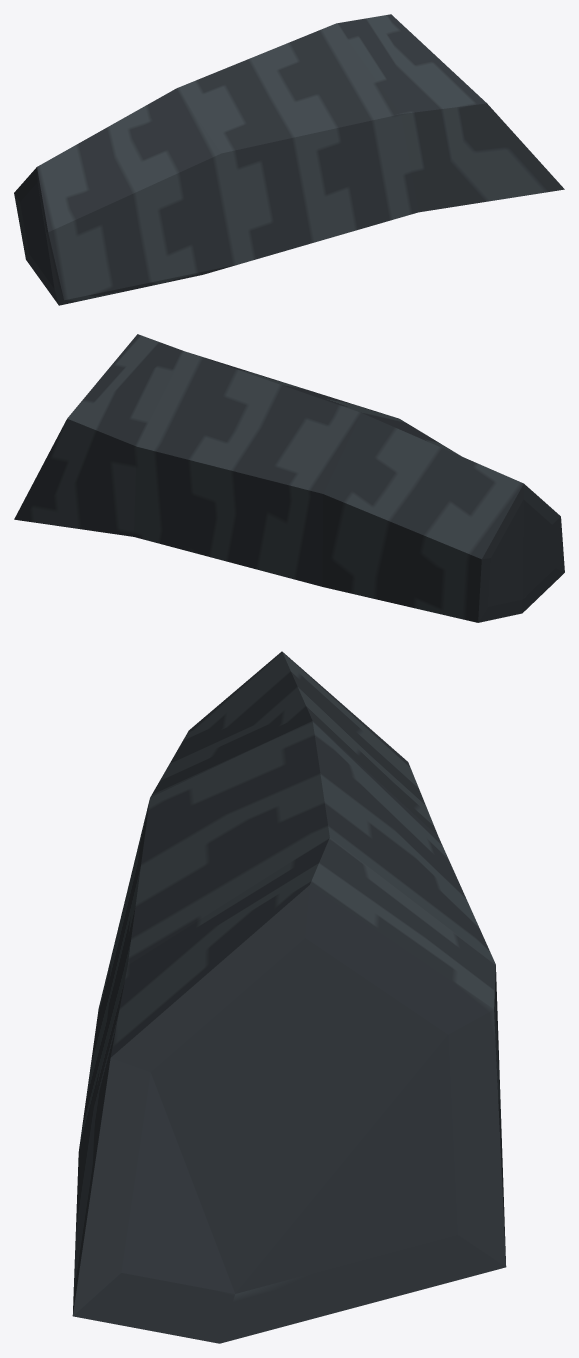
File: Chr_ArmUpperRight_Female_19_Static.fbx
3 views of the same model, one above another, from view 1: azimuth 30°, elevation 25°; view 2: azimuth 150°, elevation 25°; view 3: azimuth 270°, elevation 25° (orthographic). The views are drawn at different scales.
Parts seen in each view (by area): view 1: Chr_ArmUpperRight_Female_19_Static; view 2: Chr_ArmUpperRight_Female_19_Static; view 3: Chr_ArmUpperRight_Female_19_Static.
Part boxes in pixels (x1,y1,x2,y2): Chr_ArmUpperRight_Female_19_Static: (14, 14, 564, 305); Chr_ArmUpperRight_Female_19_Static: (14, 334, 564, 622); Chr_ArmUpperRight_Female_19_Static: (72, 651, 506, 1343).
Size of the model in its own units: 0.3535 by 0.1391 by 0.136.
